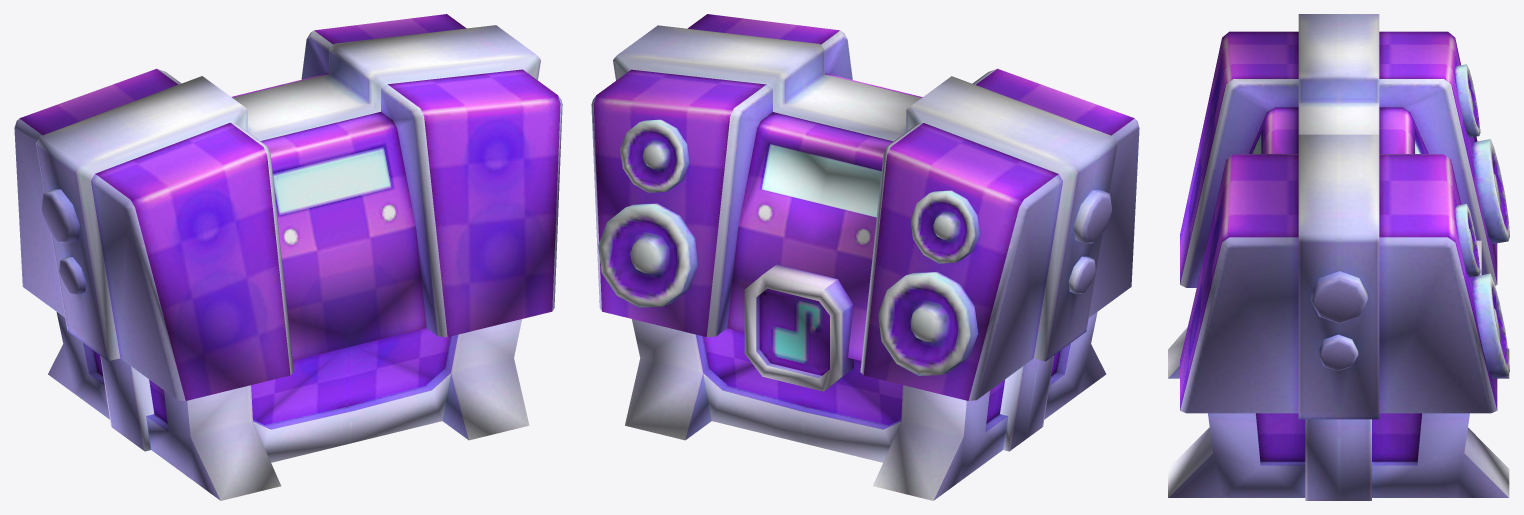
3 renders of one model, left to right at view 1: azimuth 30°, elevation 25°; view 2: azimuth 150°, elevation 25°; view 3: azimuth 270°, elevation 25°, orthographic.
Visible parts, largest first — view 1: model; view 2: model; view 3: model.
Boxes of the visible parts, x1,y1,x2,y2 form: model: [14, 14, 562, 500]; model: [591, 14, 1139, 500]; model: [1168, 14, 1509, 500].
Size of the model in its own units: 3.52 by 2.3 by 2.23.
1 material, 1 textured.
